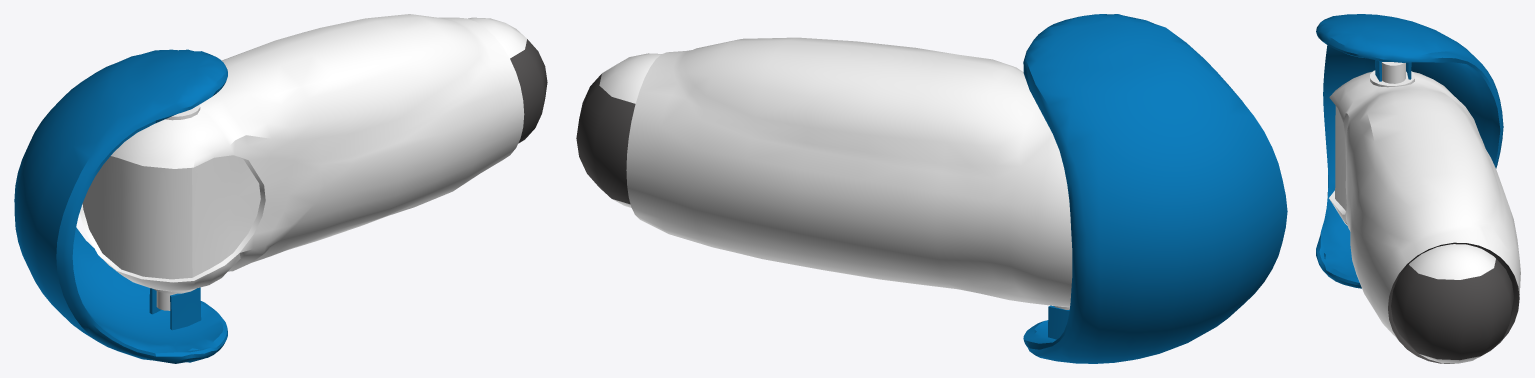
The model's file is LShoulderRoll.dae.
3 renders of one model, left to right at view 1: azimuth 30°, elevation 25°; view 2: azimuth 150°, elevation 25°; view 3: azimuth 270°, elevation 25°, orthographic. The views are drawn at different scales.
Parts seen in each view (by area): view 1: LShoulderRoll; view 2: LShoulderRoll; view 3: LShoulderRoll.
Part boxes in pixels (box(x1,y1,x2,y2)): LShoulderRoll: box(14, 14, 547, 363); LShoulderRoll: box(576, 14, 1287, 363); LShoulderRoll: box(1316, 14, 1520, 363).
Size of the model in its own units: 1.69 by 0.6127 by 0.8169.
1 material, 1 textured.
